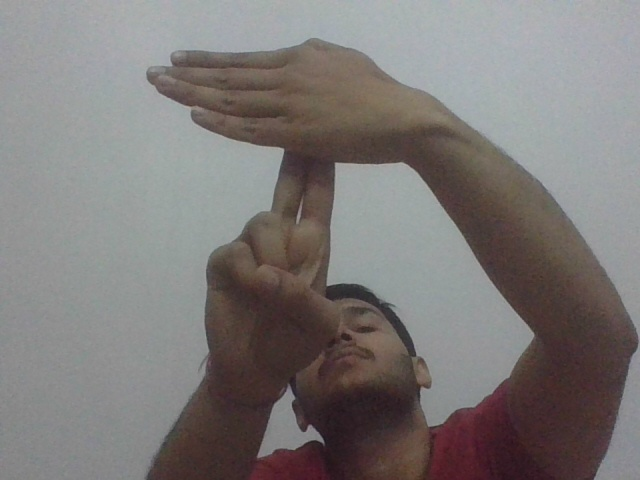N: (140, 35, 402, 220)
